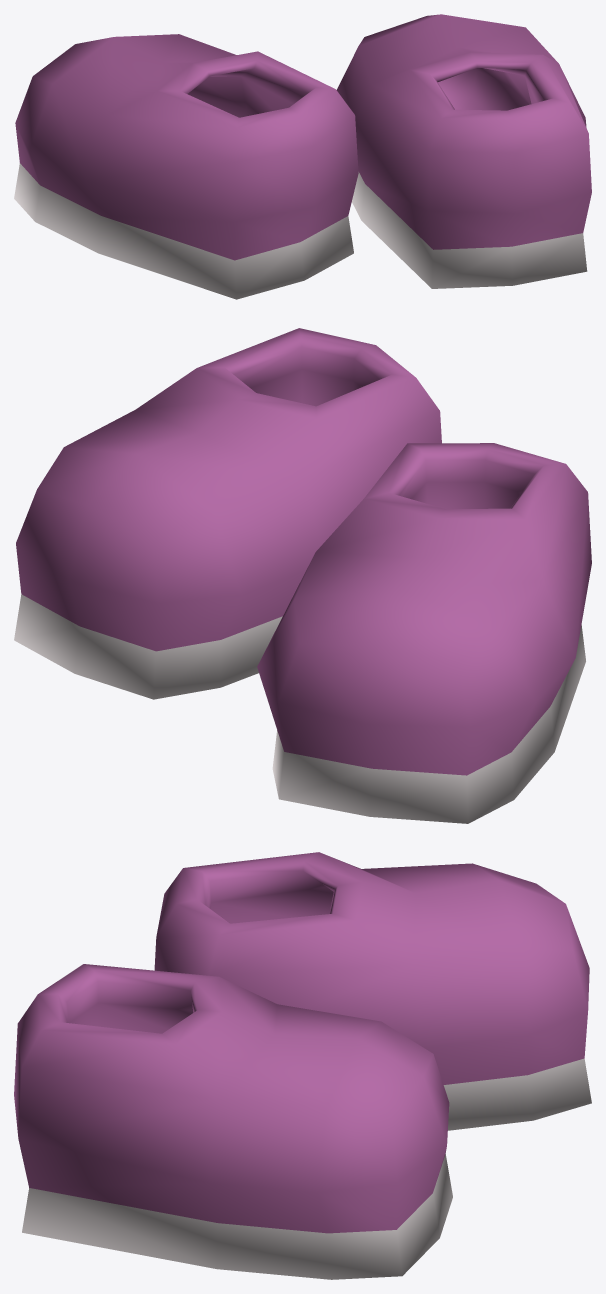
The model's file is Shoes_01.fbx.
3 renders of one model, top to bottom at view 1: azimuth 30°, elevation 25°; view 2: azimuth 150°, elevation 25°; view 3: azimuth 270°, elevation 25°, orthographic. The views are drawn at different scales.
Parts seen in each view (by area): view 1: Shoes_01; view 2: Shoes_01; view 3: Shoes_01.
Part boxes in pixels (bbox=[...]): Shoes_01: bbox=[14, 14, 591, 299]; Shoes_01: bbox=[14, 328, 591, 823]; Shoes_01: bbox=[14, 852, 591, 1279].
Size of the model in its own units: 63.17 by 21.61 by 56.2.
